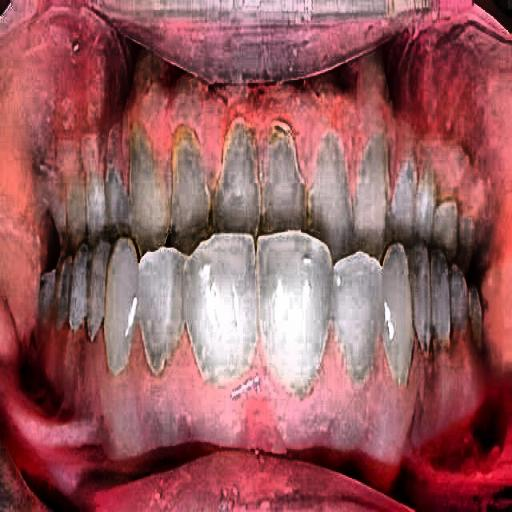Healthy: (104, 180, 495, 437)
